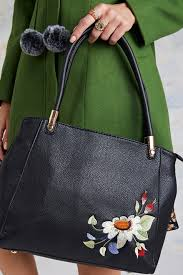bag: (4, 19, 177, 275)
